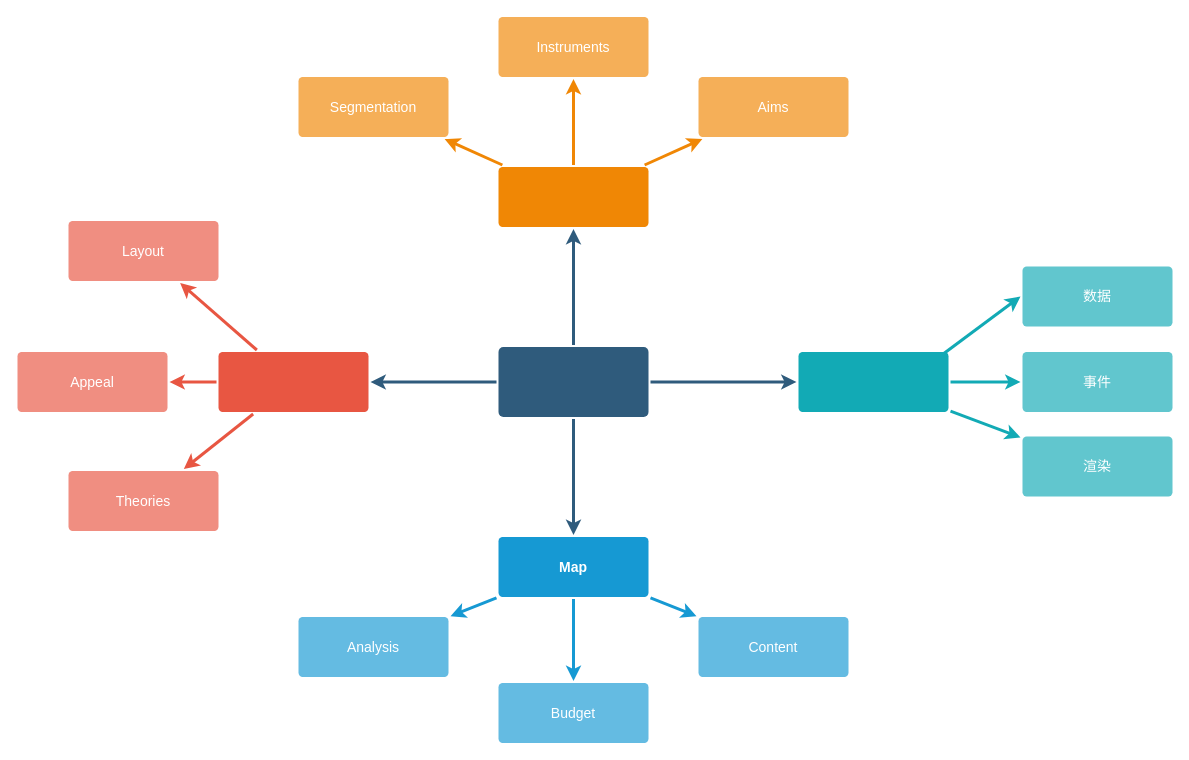
Some shapes in this 1189 by 760 pixel diagram are drawn without their labels. The shapes that lost their labels are listed below. From the top down, each one's box as (x1, y1, x2, y2) in pixels, then its label:
(498, 166, 648, 226): logic
(218, 352, 368, 412): DI
(498, 346, 648, 416): 双线化
(798, 352, 948, 412): UI
